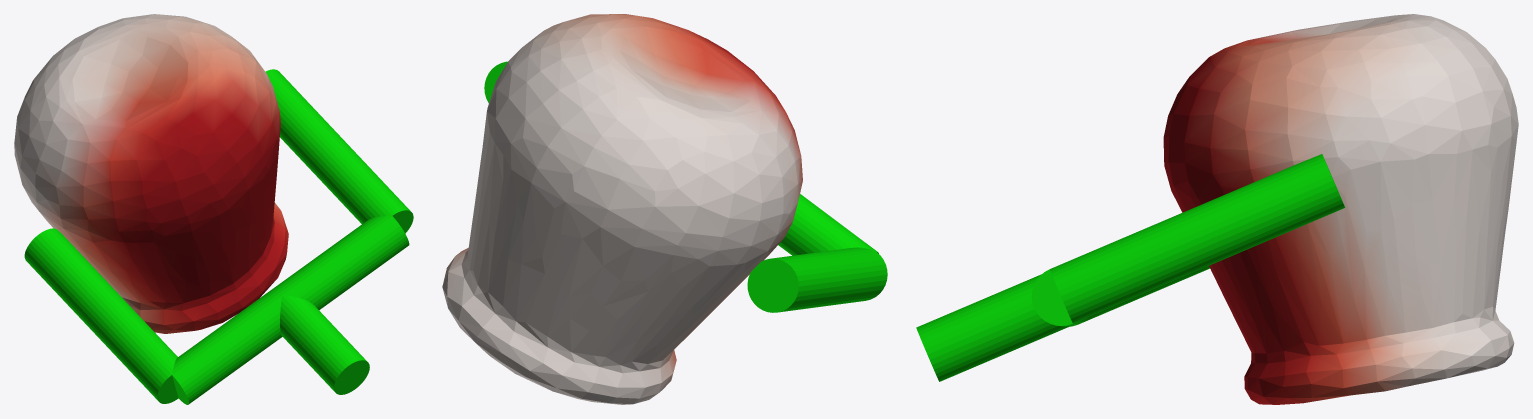
Rendered from round_000_trial_001.obj.
The picture shows the model from 3 angles, left to right: view 1: azimuth 30°, elevation 25°; view 2: azimuth 150°, elevation 25°; view 3: azimuth 270°, elevation 25°; orthographic projection. The views are drawn at different scales.
Visible parts, largest first — view 1: geometry_0, geometry_1; view 2: geometry_0, geometry_1; view 3: geometry_0, geometry_1.
Boxes of the visible parts, x1=… form: geometry_0: x1=14, y1=14, x2=288, y2=333; geometry_1: x1=24, y1=69, x2=413, y2=404; geometry_0: x1=442, y1=14, x2=802, y2=404; geometry_1: x1=484, y1=61, x2=887, y2=312; geometry_0: x1=1163, y1=14, x2=1518, y2=404; geometry_1: x1=916, y1=154, x2=1345, y2=381.
Bounding box in the file's own units: 0.074 × 0.0706 × 0.1018.
